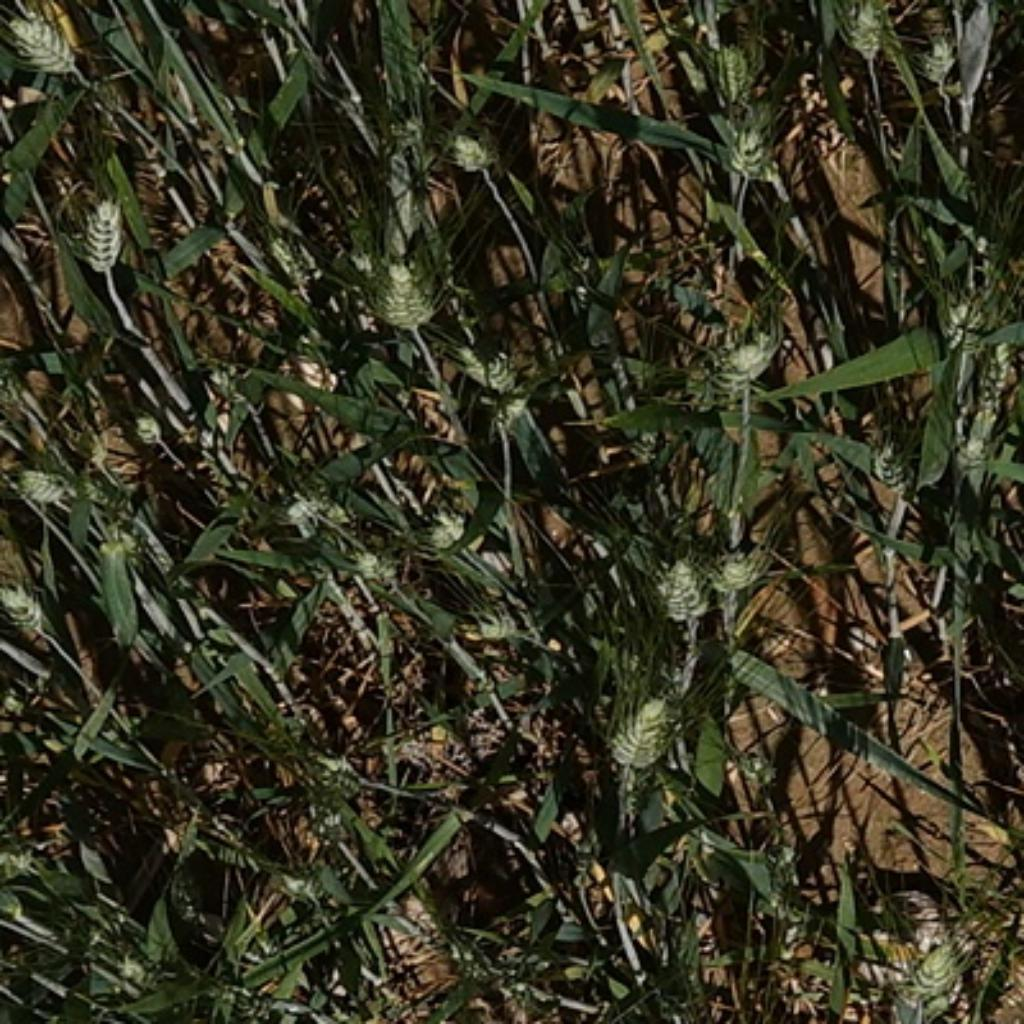0-0: (337, 227, 450, 330), (658, 888, 745, 1018), (601, 665, 696, 778), (683, 304, 785, 404), (89, 921, 192, 1003), (5, 2, 84, 99), (714, 112, 793, 197), (61, 176, 130, 268), (440, 599, 542, 657), (964, 347, 1016, 459), (322, 537, 414, 596), (273, 473, 350, 542), (642, 540, 711, 616), (2, 568, 66, 645), (934, 276, 998, 351), (701, 40, 775, 104), (2, 460, 89, 514), (899, 932, 967, 1001), (414, 496, 481, 560), (460, 337, 513, 410), (117, 401, 179, 460), (440, 112, 501, 168), (832, 2, 898, 53), (308, 758, 370, 809), (261, 231, 312, 293), (908, 17, 957, 79), (711, 540, 765, 593), (198, 365, 243, 409), (868, 450, 904, 492)
